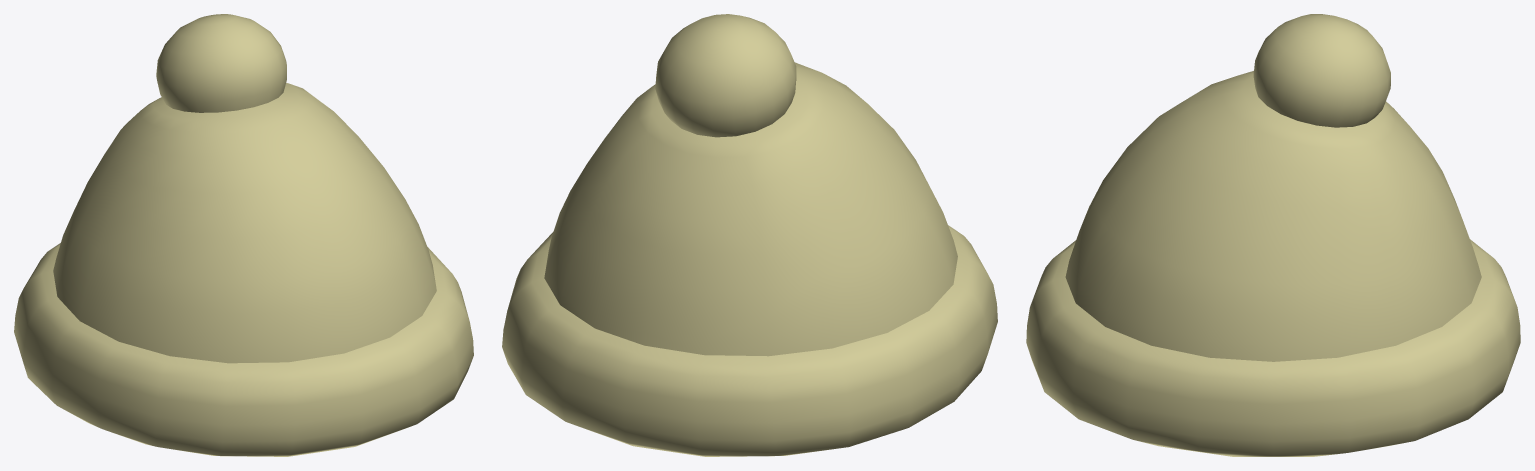
The model's file is CapHatAlan0.glb.
3 renders of one model, left to right at view 1: azimuth 30°, elevation 25°; view 2: azimuth 150°, elevation 25°; view 3: azimuth 270°, elevation 25°, orthographic. The views are drawn at different scales.
Visible parts, largest first — view 1: Body__mCap; view 2: Body__mCap; view 3: Body__mCap.
Boxes of the visible parts, box(x1,y1,x2,y2) form: Body__mCap: box(14, 14, 473, 456); Body__mCap: box(502, 14, 997, 456); Body__mCap: box(1026, 14, 1520, 456).
Bounding box in the file's own units: 7.74 × 6.32 × 8.18.
Materials: 1 (1 with a texture image).
